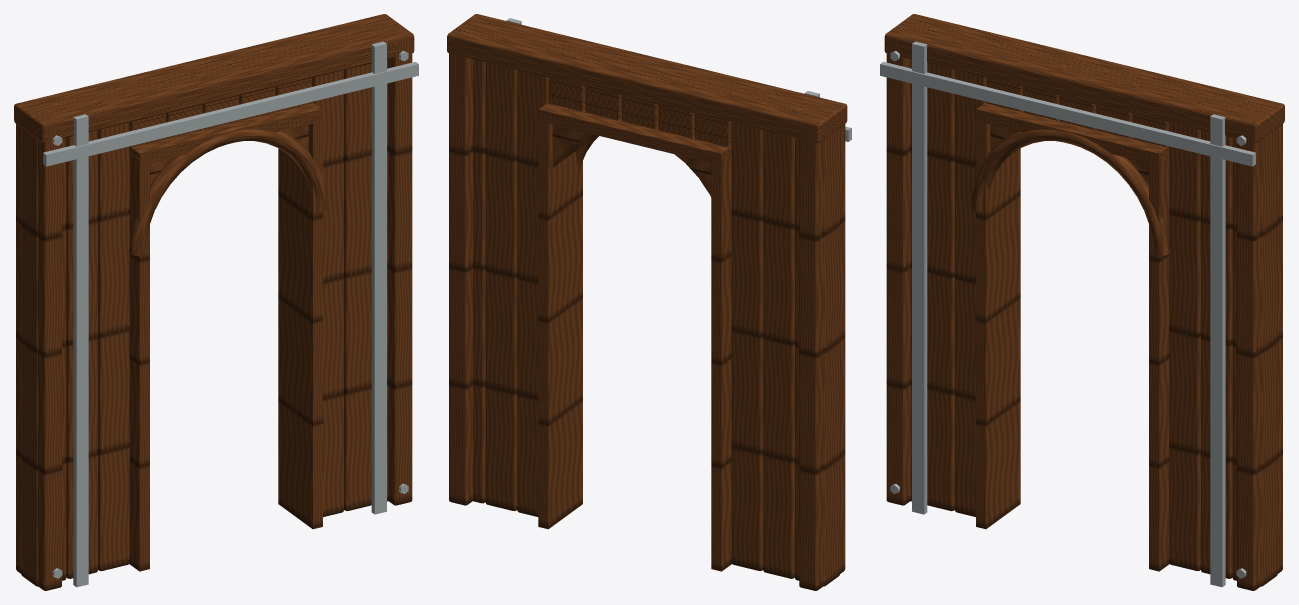
The model's file is modular-survival-base-builder-wall-arched-doorway-rein-00539f21__24290.glb.
3 renders of one model, left to right at view 1: azimuth 30°, elevation 25°; view 2: azimuth 150°, elevation 25°; view 3: azimuth 330°, elevation 25°, orthographic.
Visible parts, largest first — view 1: wall-arched-doorway-reinforced; view 2: wall-arched-doorway-reinforced; view 3: wall-arched-doorway-reinforced.
Part boxes in pixels (x1,y1,x2,y2): wall-arched-doorway-reinforced: [14, 14, 418, 590]; wall-arched-doorway-reinforced: [447, 14, 851, 590]; wall-arched-doorway-reinforced: [880, 14, 1284, 590].
Bounding box in the file's own units: 2 × 2.4 × 0.3319.
2 materials, 1 textured.
